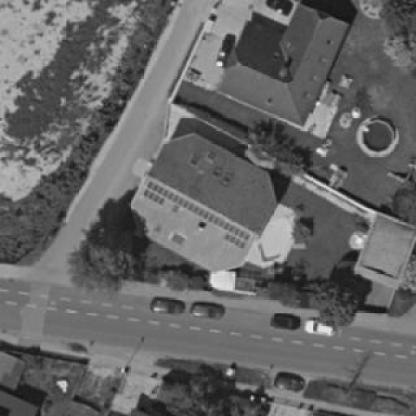solar-pv-panel: (141, 180, 251, 251)
